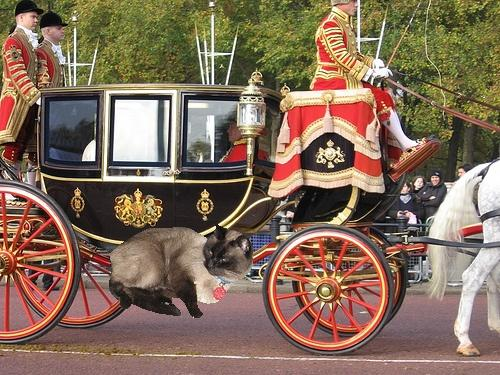tampered: (110, 224, 253, 318)
